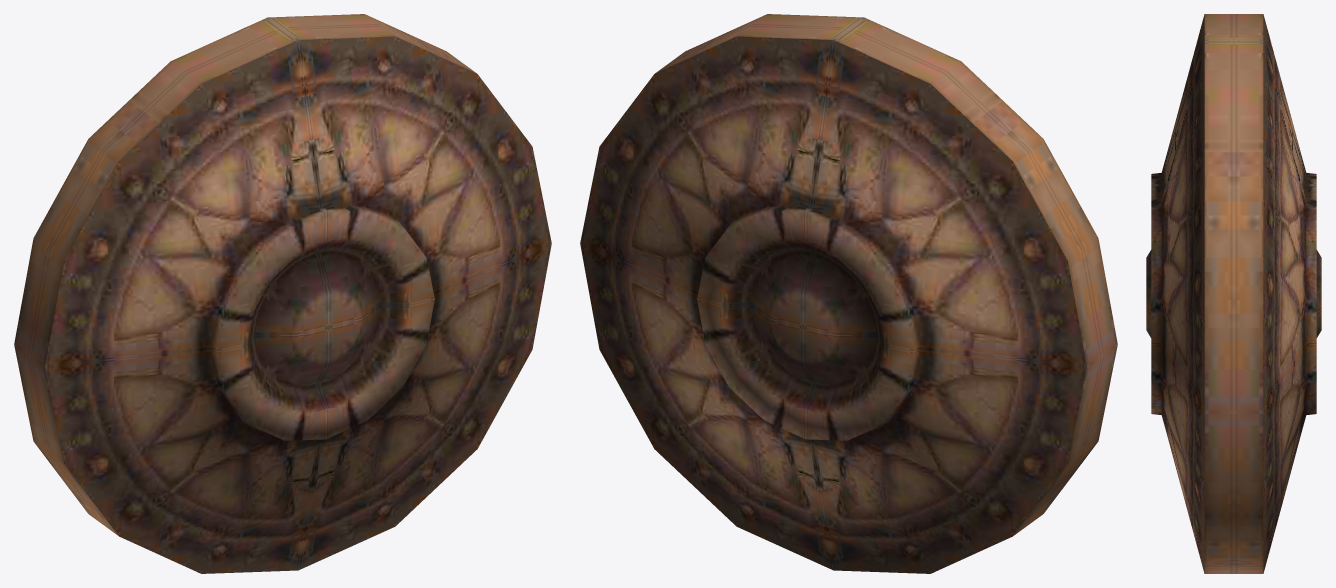
File: luopan-4.FBX
The picture shows the model from 3 angles, left to right: view 1: azimuth 30°, elevation 25°; view 2: azimuth 150°, elevation 25°; view 3: azimuth 270°, elevation 25°; orthographic projection. The views are drawn at different scales.
Visible parts, largest first — view 1: luopan-4; view 2: luopan-4; view 3: luopan-4.
Boxes of the visible parts, <box> form: luopan-4: <box>14,14,551,573</box>; luopan-4: <box>580,14,1117,573</box>; luopan-4: <box>1146,14,1321,573</box>.
Bounding box in the file's own units: 20.22 × 20.22 × 6.31.
1 material, 1 textured.
